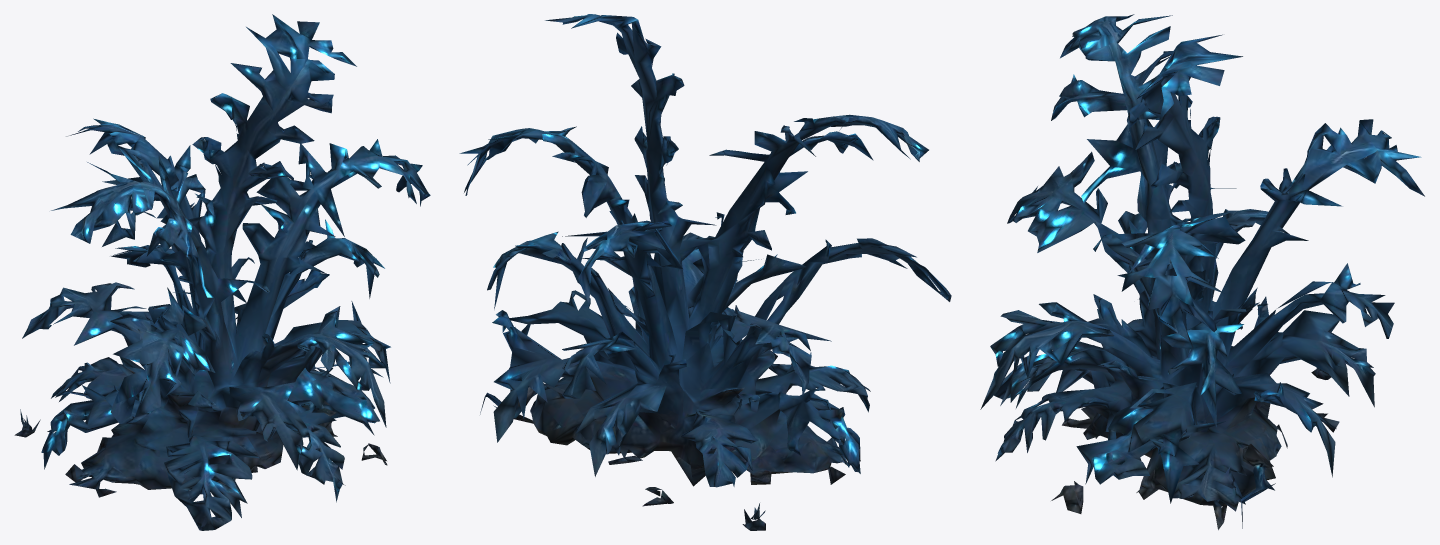
File: glowweed.glb
3 views of the same model, side by side, from view 1: azimuth 30°, elevation 25°; view 2: azimuth 150°, elevation 25°; view 3: azimuth 270°, elevation 25° (orthographic). The views are drawn at different scales.
Visible parts, largest first — view 1: glowweed; view 2: glowweed; view 3: glowweed.
Part boxes in pixels (left/top/right/bottom): glowweed: left=14, top=14, right=430, bottom=530; glowweed: left=459, top=14, right=951, bottom=530; glowweed: left=980, top=14, right=1424, bottom=530.
Bounding box in the file's own units: 0.9705 × 0.9292 × 0.8514.
Materials: 1 (1 with a texture image).
